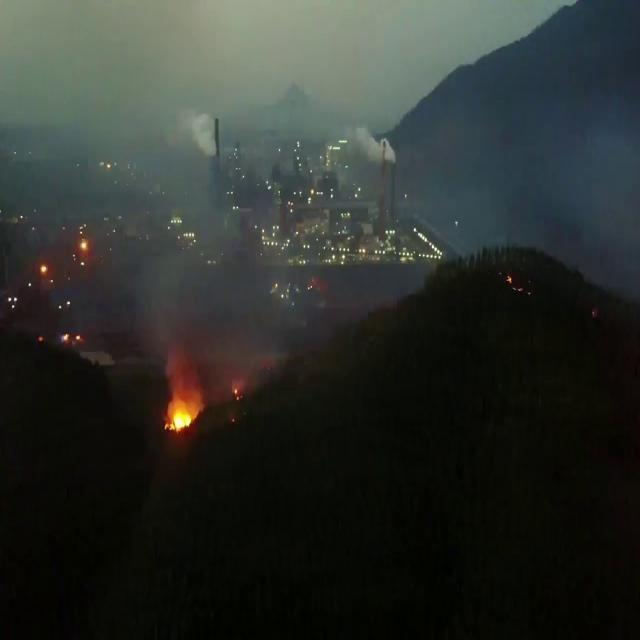Fire: (164, 410, 192, 432)
Smoke: (116, 114, 306, 390)
